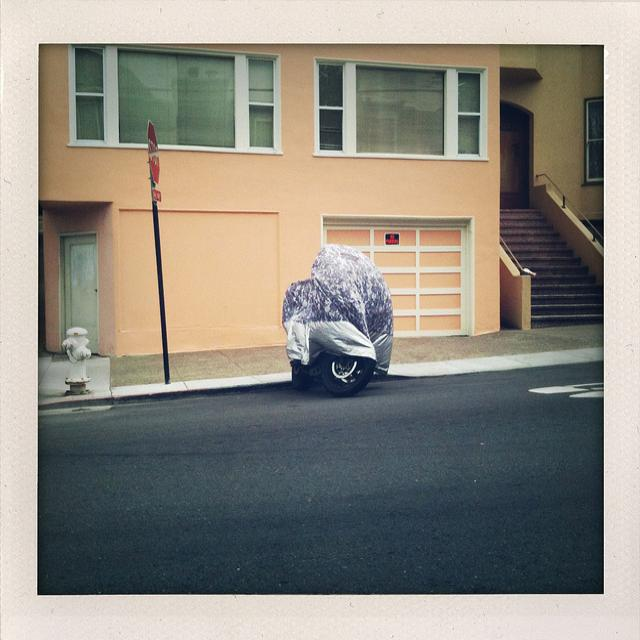motor: (285, 254, 397, 375), (286, 353, 377, 396)
